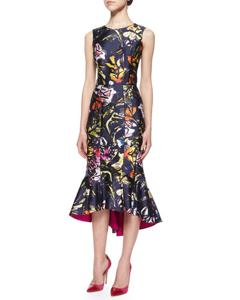C_dress: (62, 23, 166, 235)
C_tank top: (85, 26, 151, 87)
S_heels: (83, 250, 135, 299)
